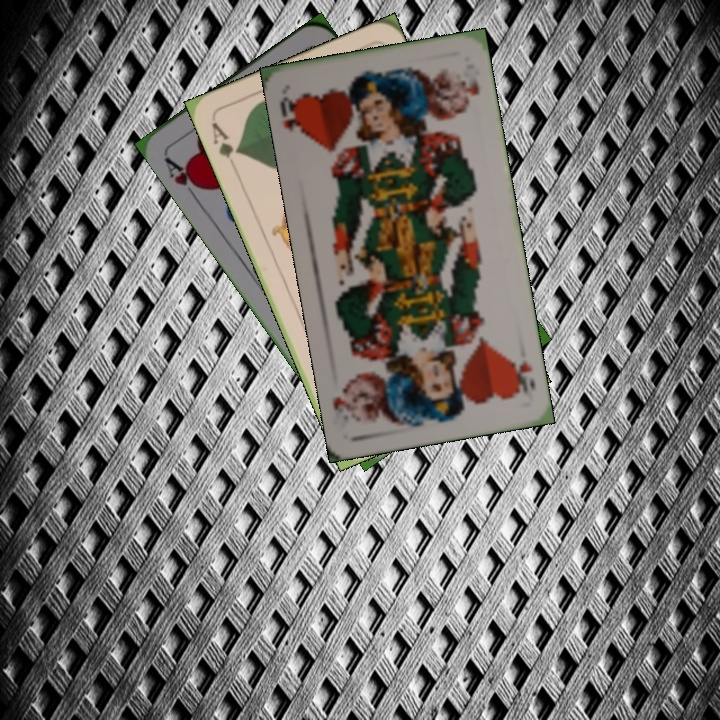GA: (207, 118, 243, 161)
HA: (160, 152, 208, 203)
HO: (507, 354, 538, 401), (275, 92, 306, 136)
